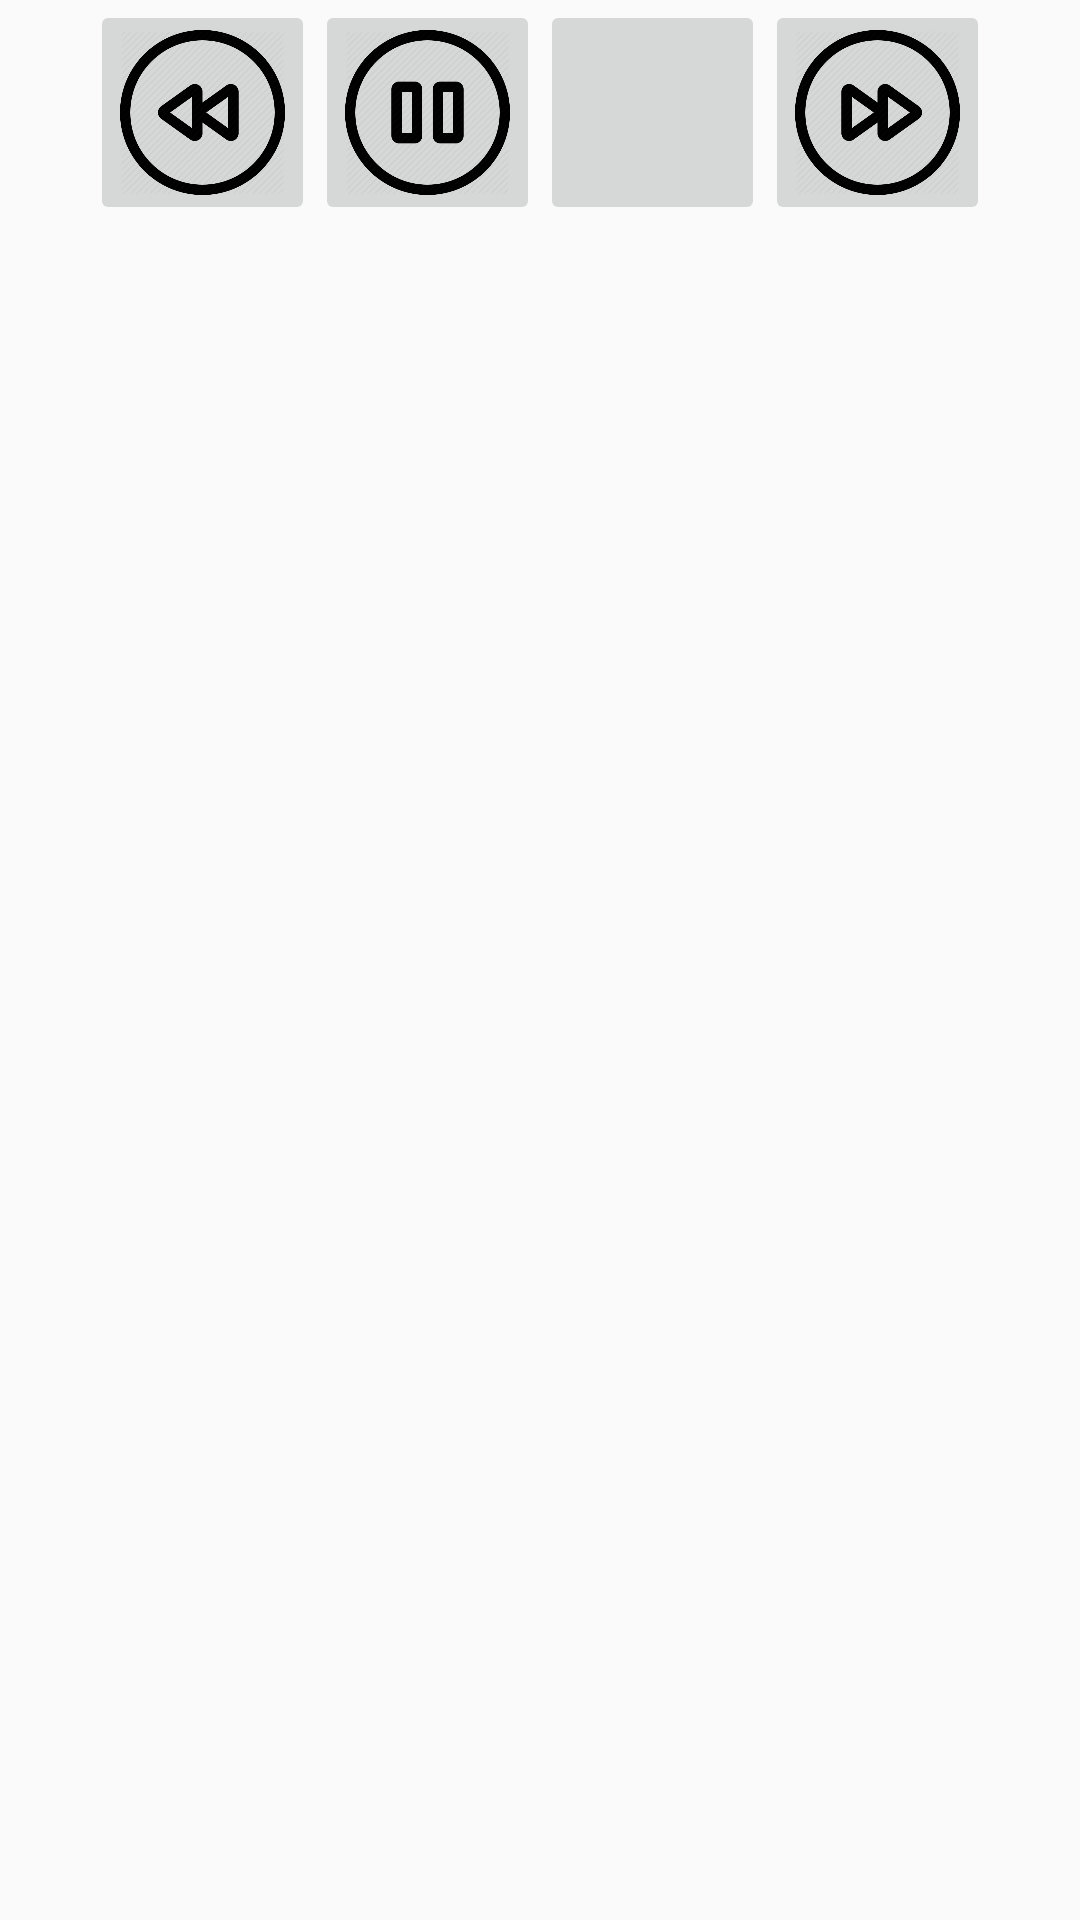

Named icons in this screenshot (1080 × 1920) and their bounding boxes, (x1, y1, x2, y2):
forward: (777, 18, 978, 207)
pause: (327, 18, 528, 207)
rewind: (102, 18, 303, 207)
